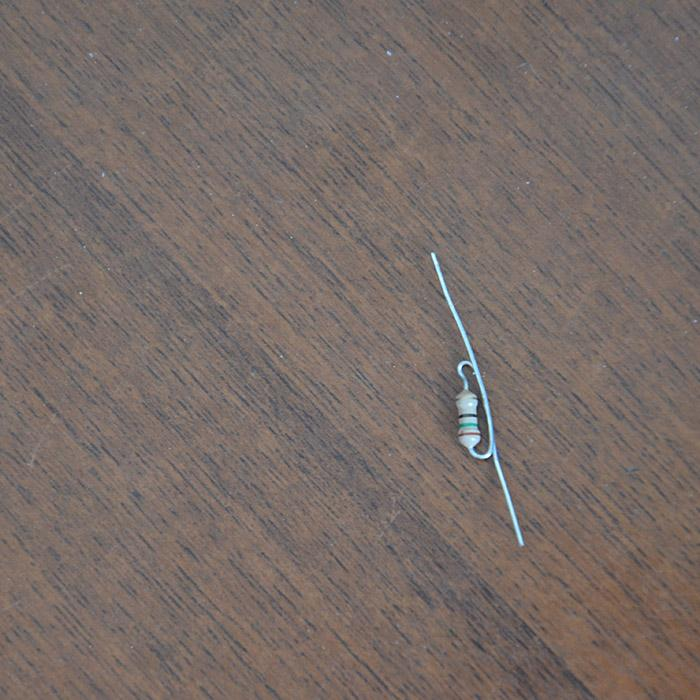resistor: (453, 387, 481, 448)
